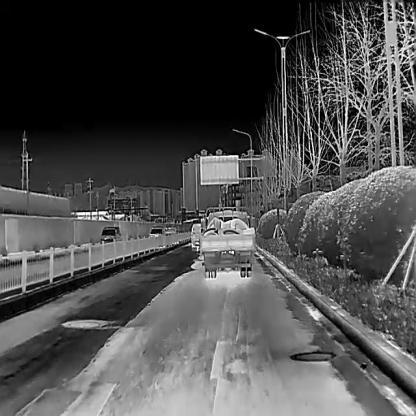car: (200, 206, 255, 278), (100, 226, 121, 247), (149, 225, 165, 243), (191, 224, 200, 250), (165, 227, 176, 239)
